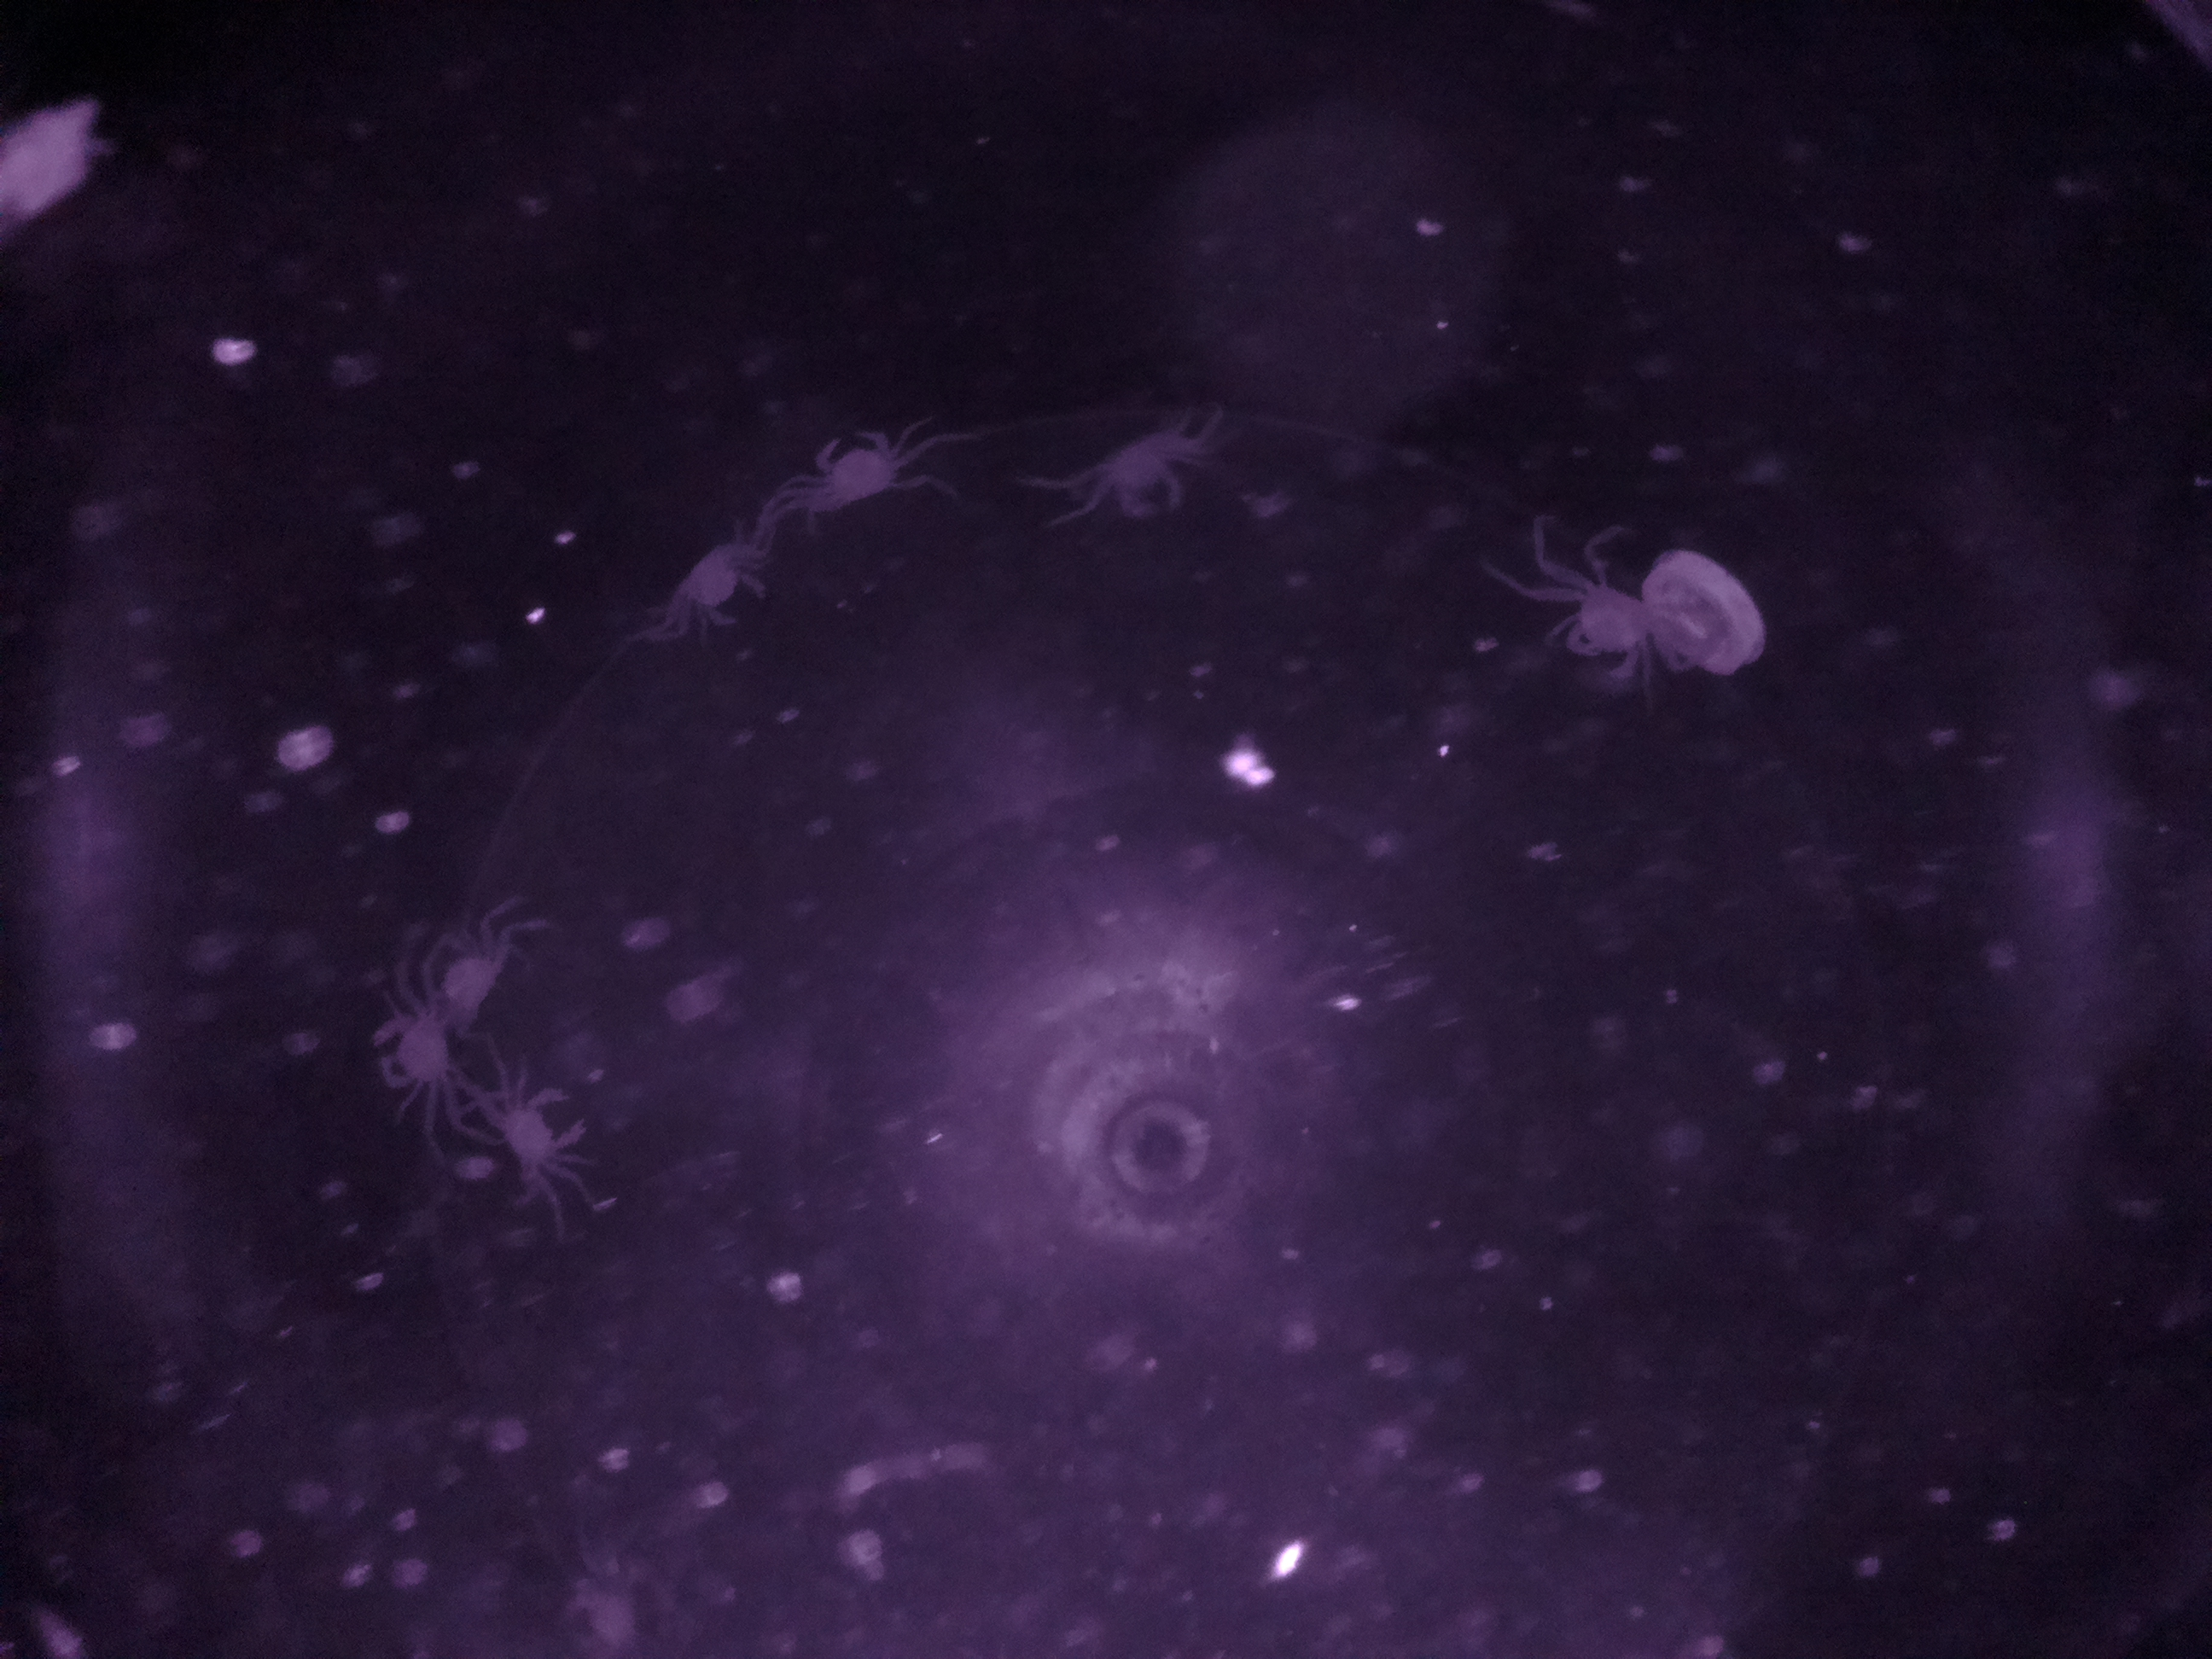Crab: (1533, 549, 1683, 704), (469, 1065, 608, 1197), (657, 523, 784, 652), (354, 993, 477, 1119), (799, 413, 930, 532), (1089, 410, 1200, 542)
